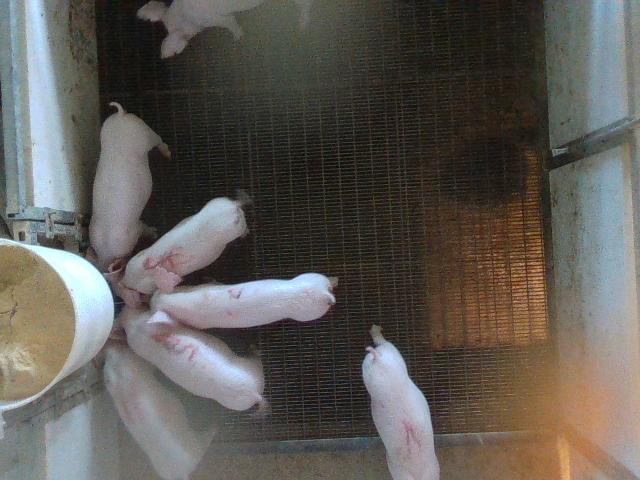pig-1: (362, 342, 440, 478)
pig-3: (112, 308, 264, 411)
pig-4: (104, 342, 214, 478)
pig-5: (104, 198, 246, 308)
